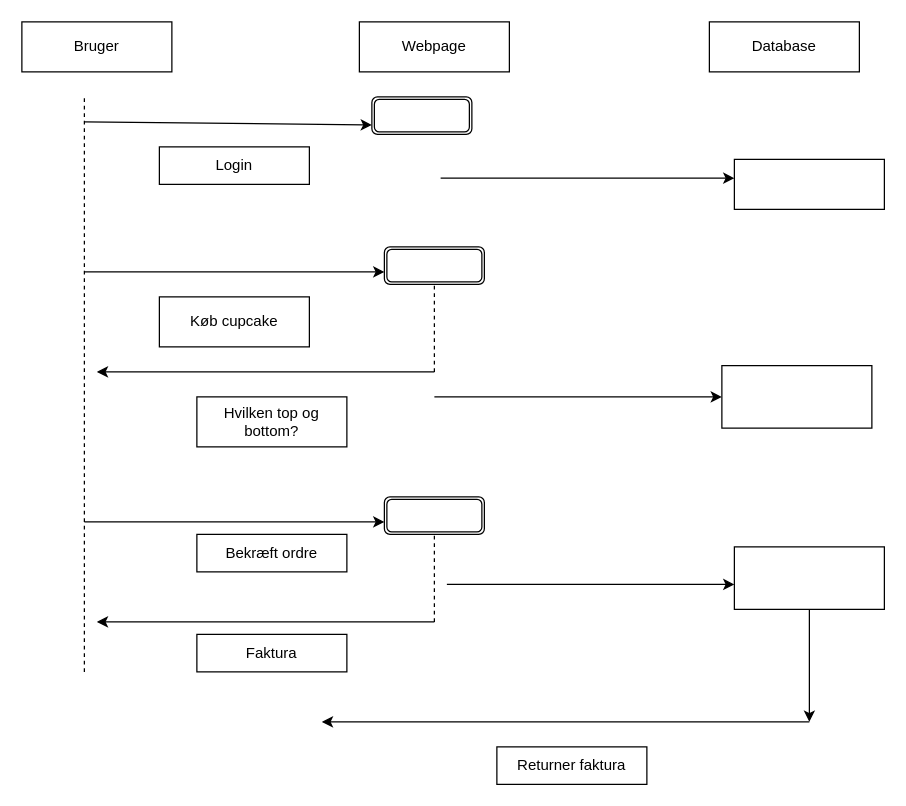
Image size: 906x806. Some labels were removed from this diagram. The shapes that lost their labels are listed below. From the top down, each one's centre as x and y in pixels, then its label:
At point (808, 183): "Hent Kundeinfo".
At point (796, 396): "Hent muligheder".
At point (808, 577): "Gem ordre".
